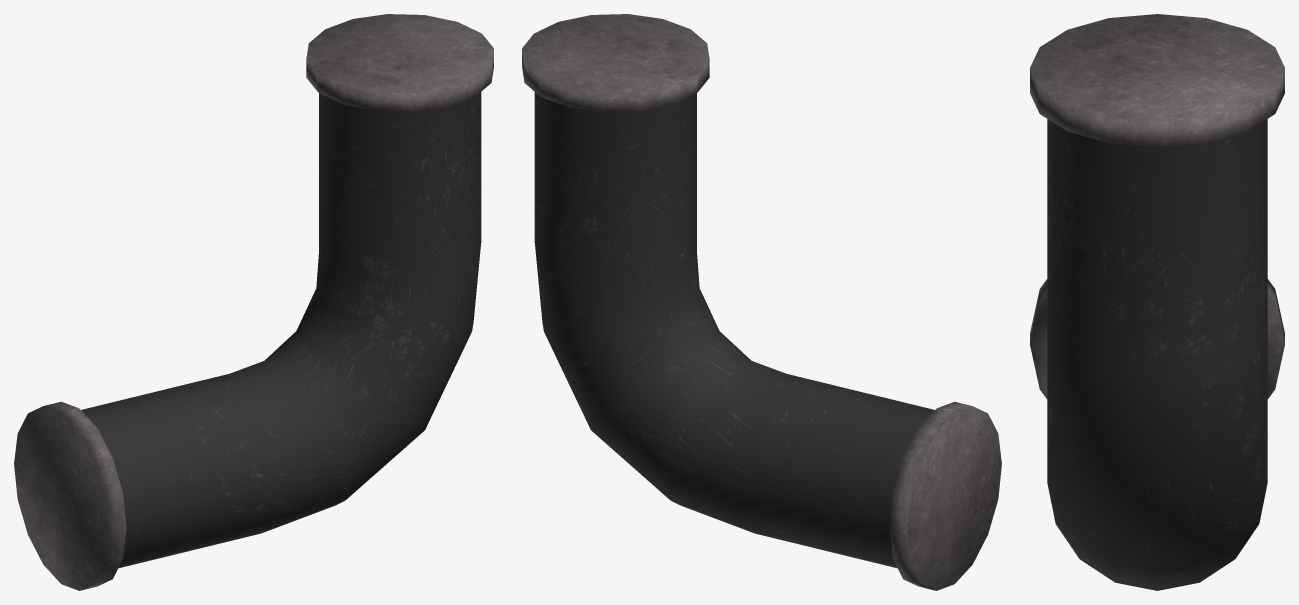
File: PipeCurve.fbx
3 views of the same model, side by side, from view 1: azimuth 30°, elevation 25°; view 2: azimuth 150°, elevation 25°; view 3: azimuth 270°, elevation 25° (orthographic). The views are drawn at different scales.
Visible parts, largest first — view 1: PipeCurve; view 2: PipeCurve; view 3: PipeCurve.
Part boxes in pixels (x1,y1,x2,y2): PipeCurve: (14, 14, 493, 590); PipeCurve: (522, 14, 1001, 590); PipeCurve: (1030, 14, 1284, 590).
Bounding box in the file's own units: 74.57 × 75.86 × 29.04.
Materials: 1 (1 with a texture image).
